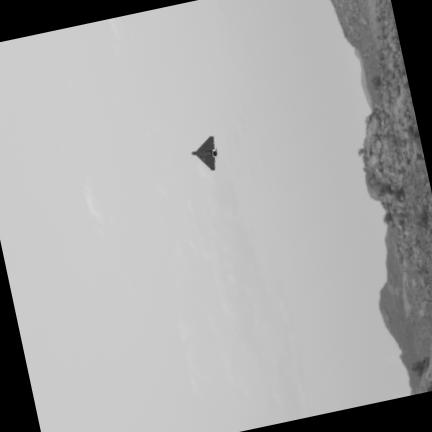Shahed: (191, 136, 217, 170)
